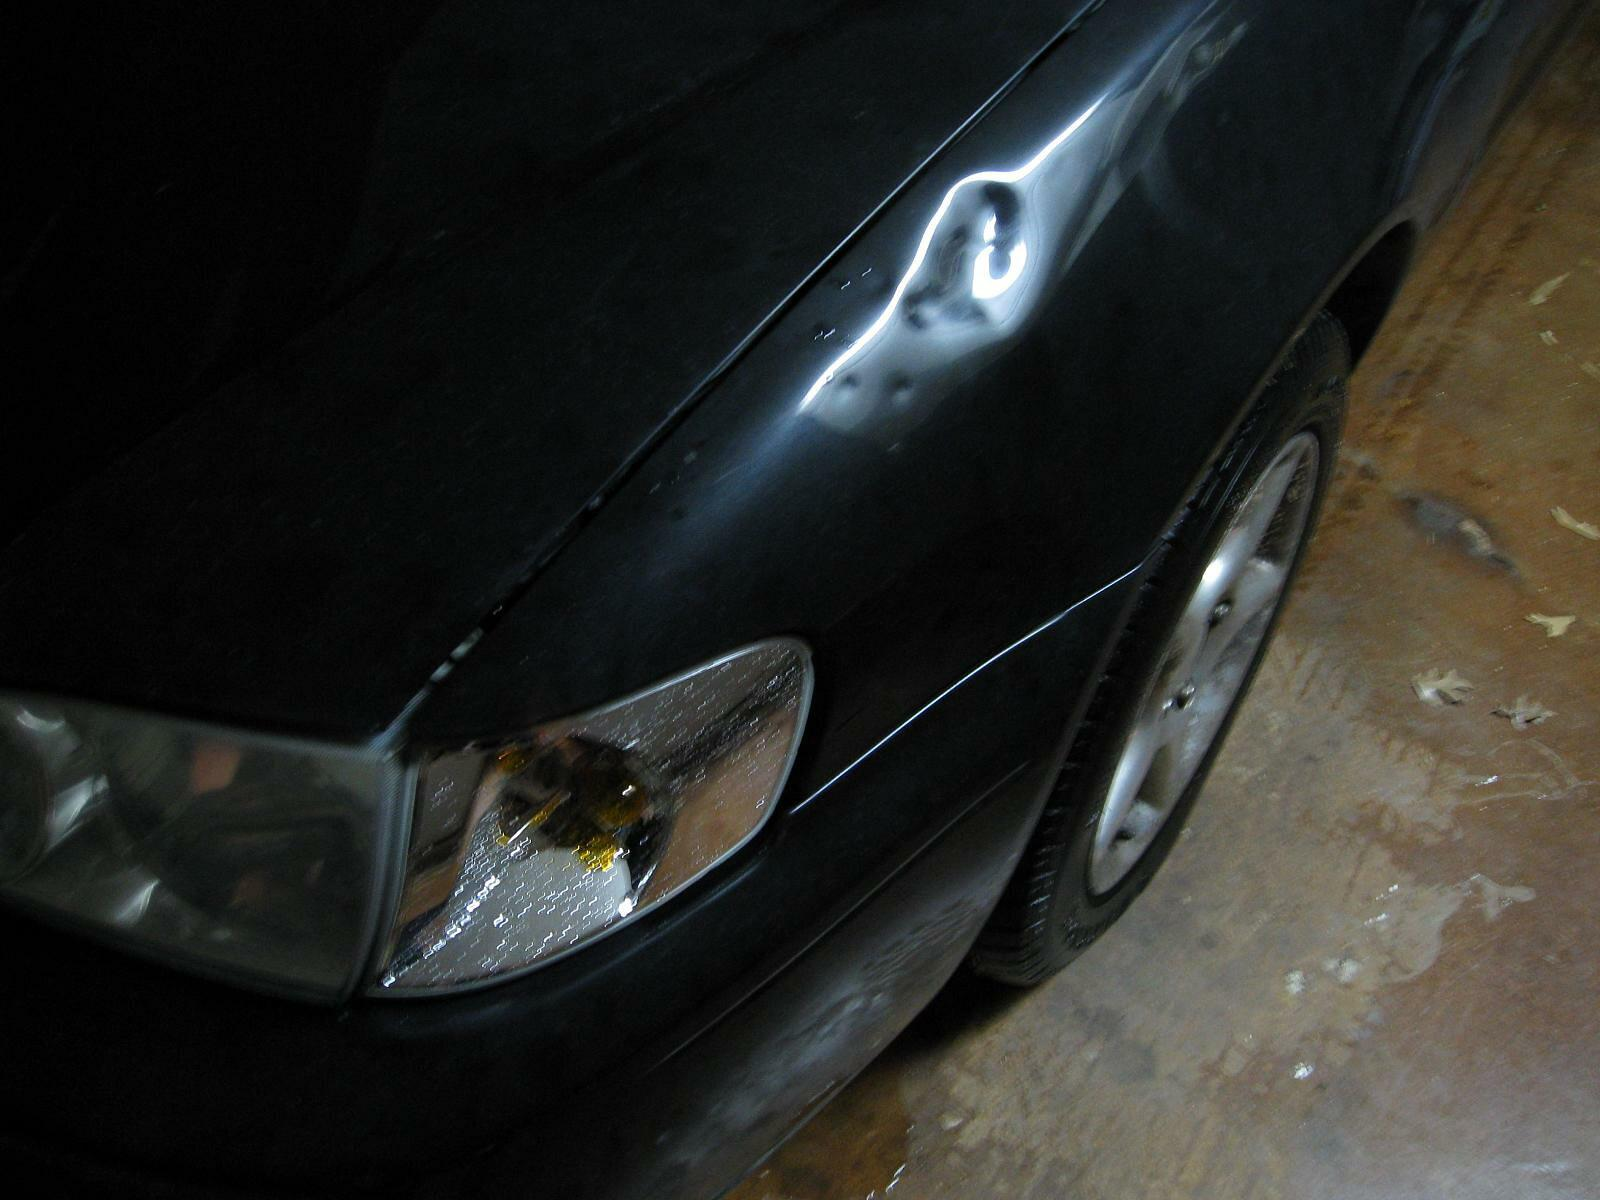fender-dent: (835, 20, 1430, 669)
